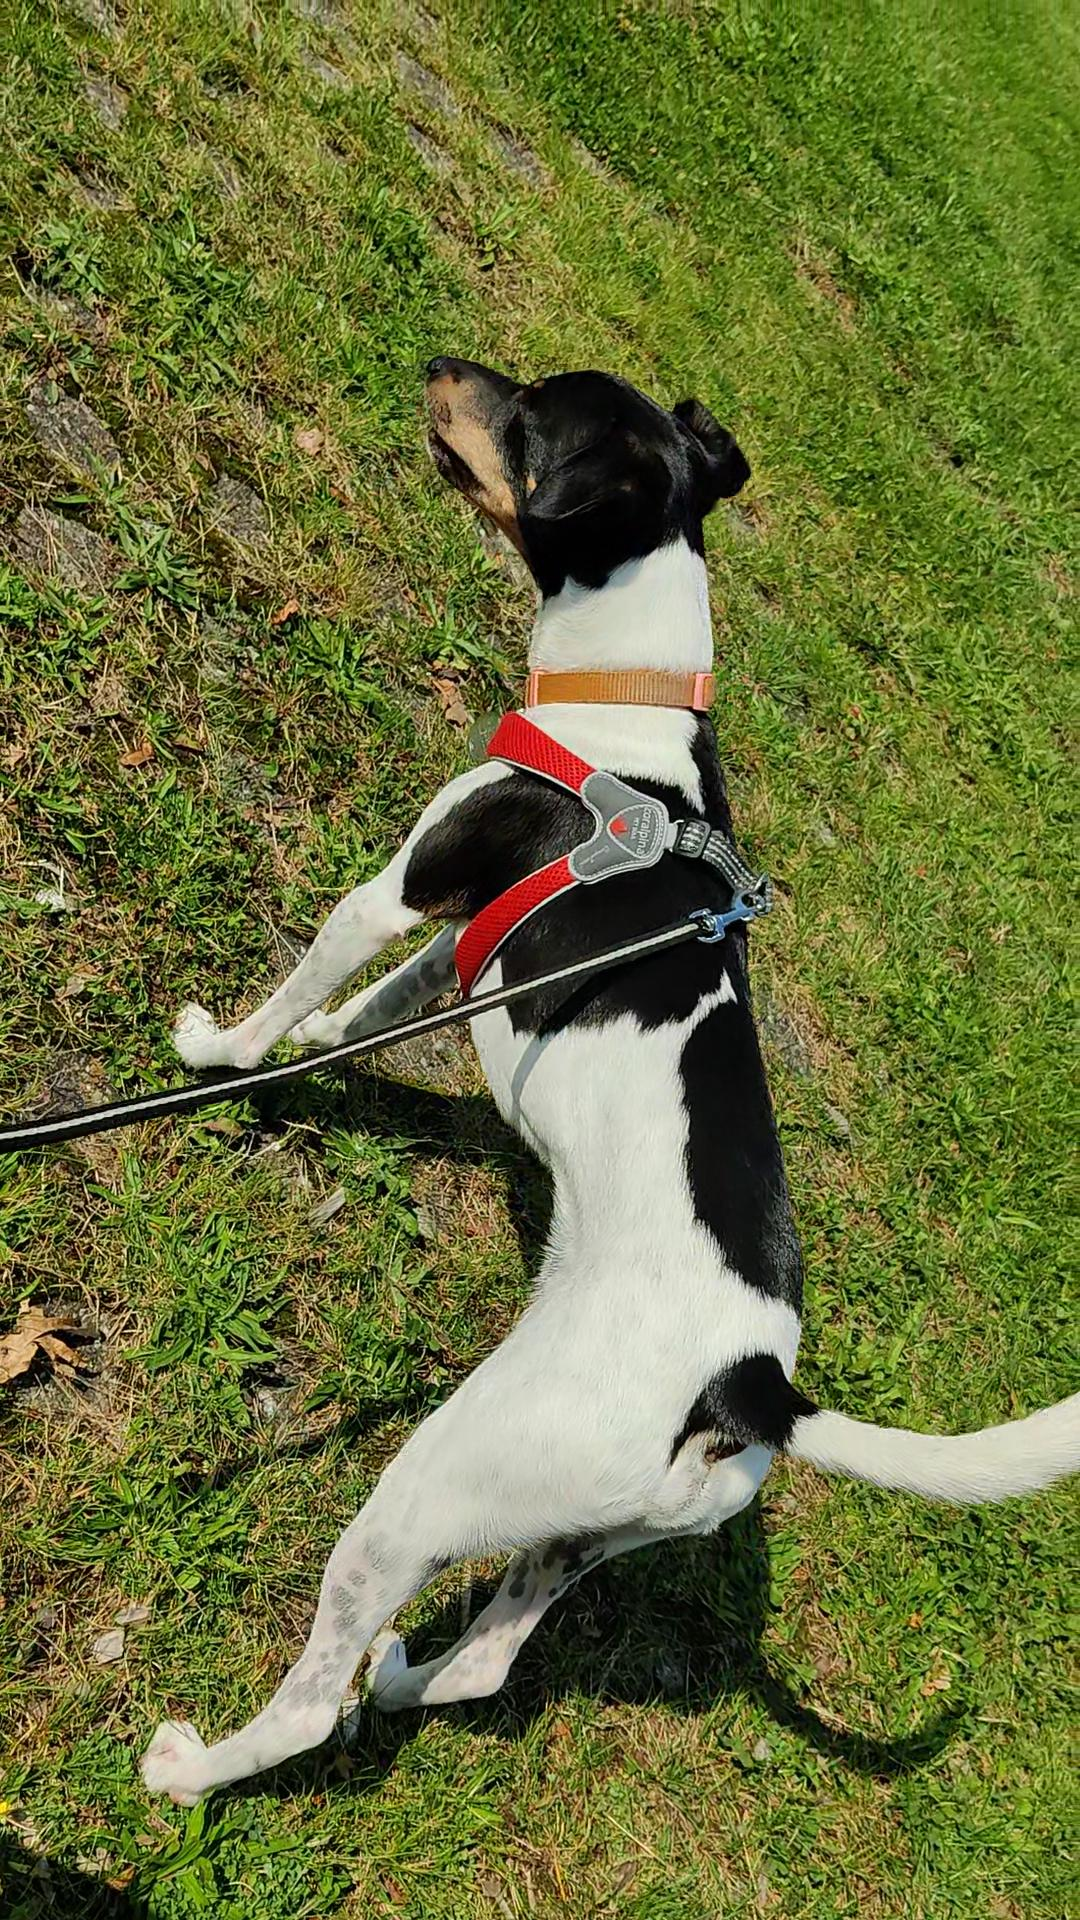Dog: (128, 316, 1079, 1811)
